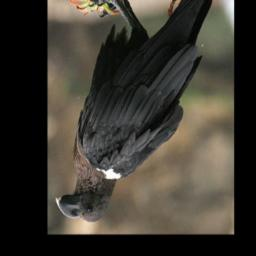Crow: (58, 0, 226, 224)
